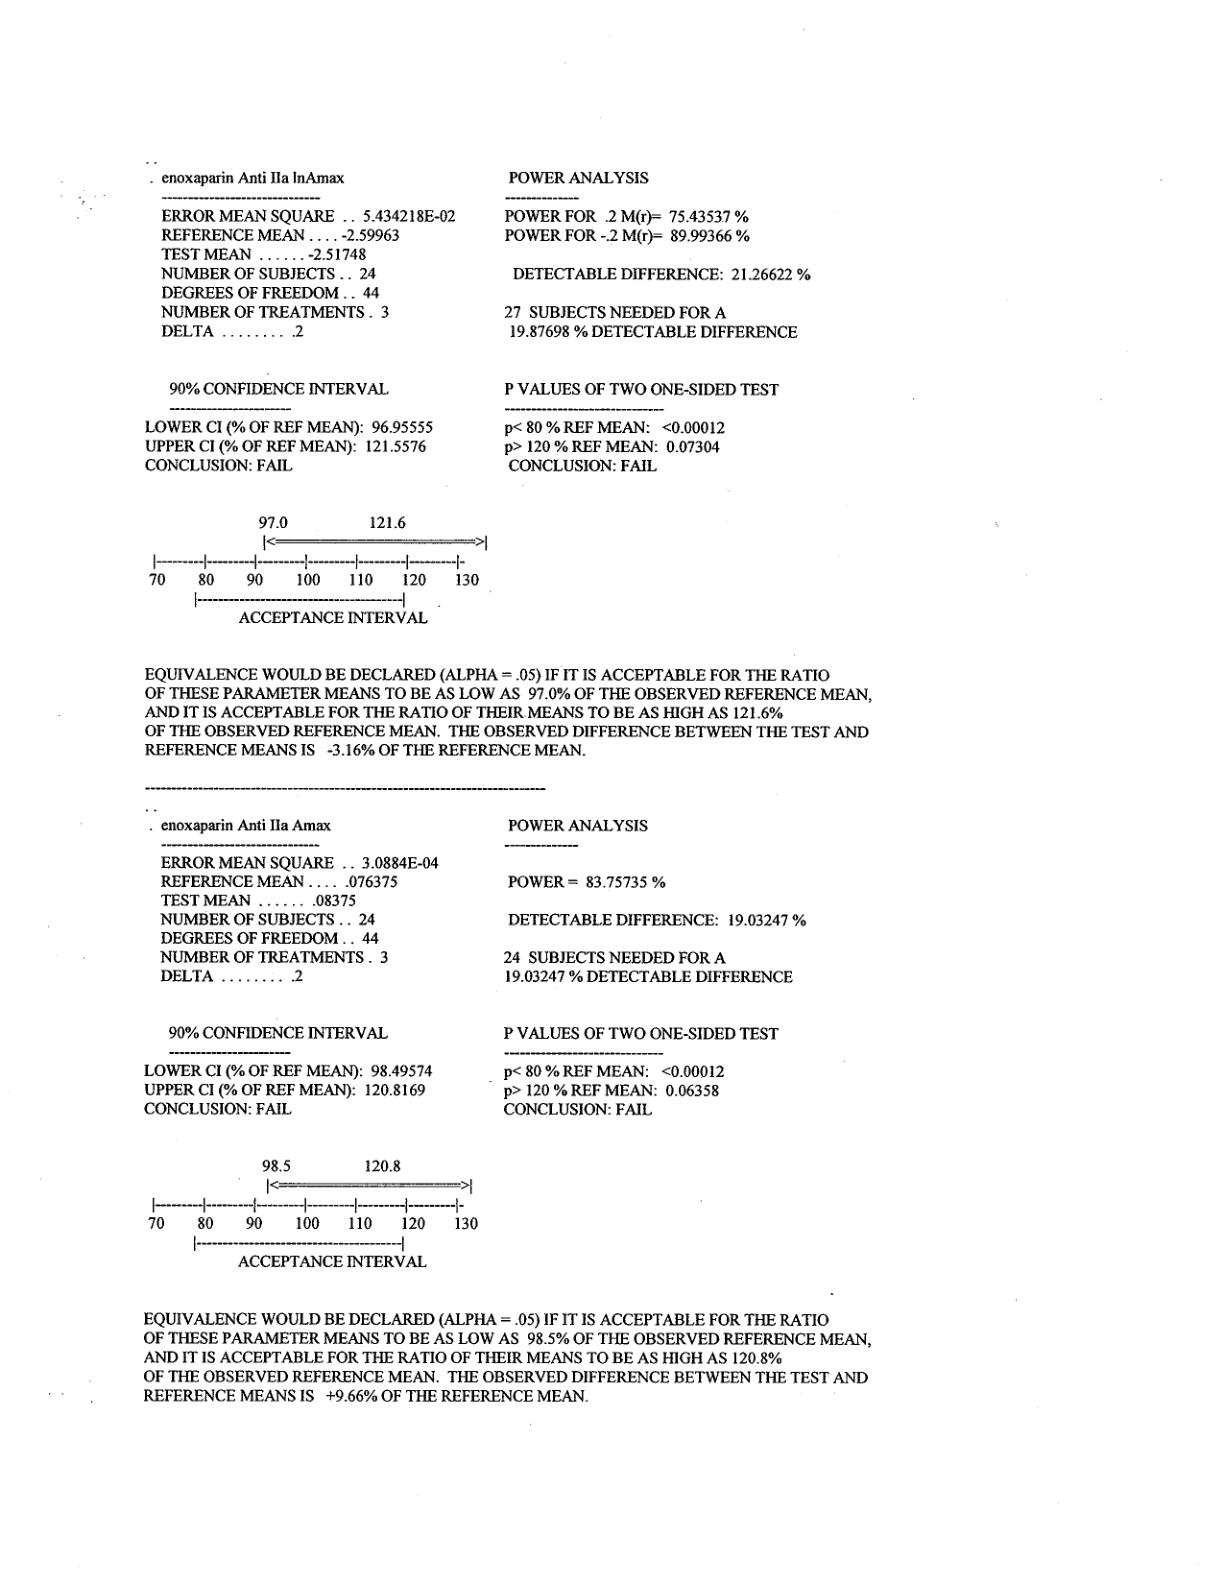nolines: (147, 163, 813, 474), (141, 818, 810, 1121)
